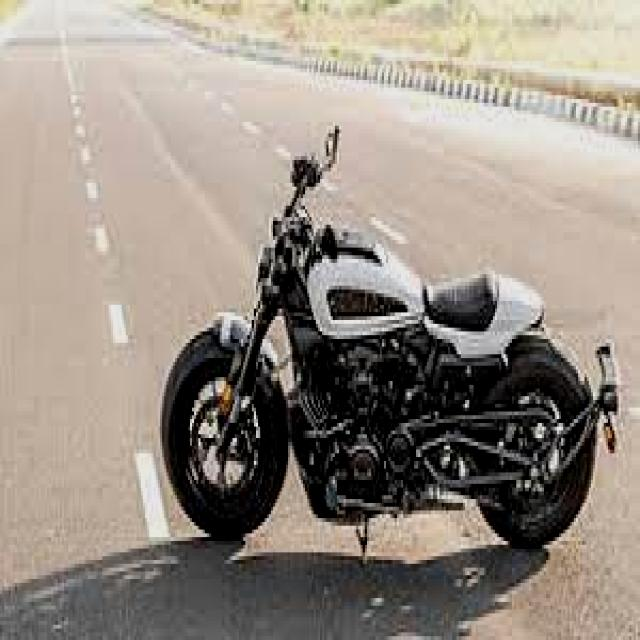MOTORCYCLE: (157, 209, 609, 544)
